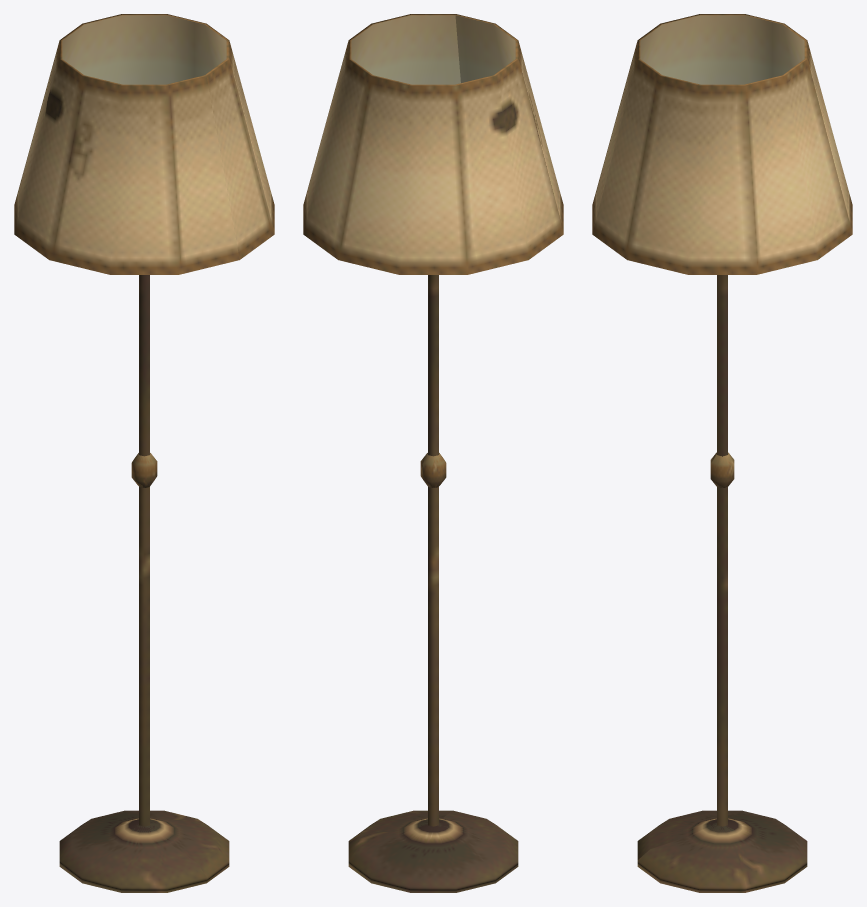
File: lamp_floor.obj
The picture shows the model from 3 angles, left to right: view 1: azimuth 30°, elevation 25°; view 2: azimuth 150°, elevation 25°; view 3: azimuth 270°, elevation 25°; orthographic projection.
Visible parts, largest first — view 1: lamp_floor; view 2: lamp_floor; view 3: lamp_floor.
Part boxes in pixels (<box>): lamp_floor: <box>14,14,274,892</box>; lamp_floor: <box>303,14,563,892</box>; lamp_floor: <box>592,14,852,892</box>.
Bounding box in the file's own units: 0.4443 × 1.52 × 0.4443.
2 materials, 2 textured.
